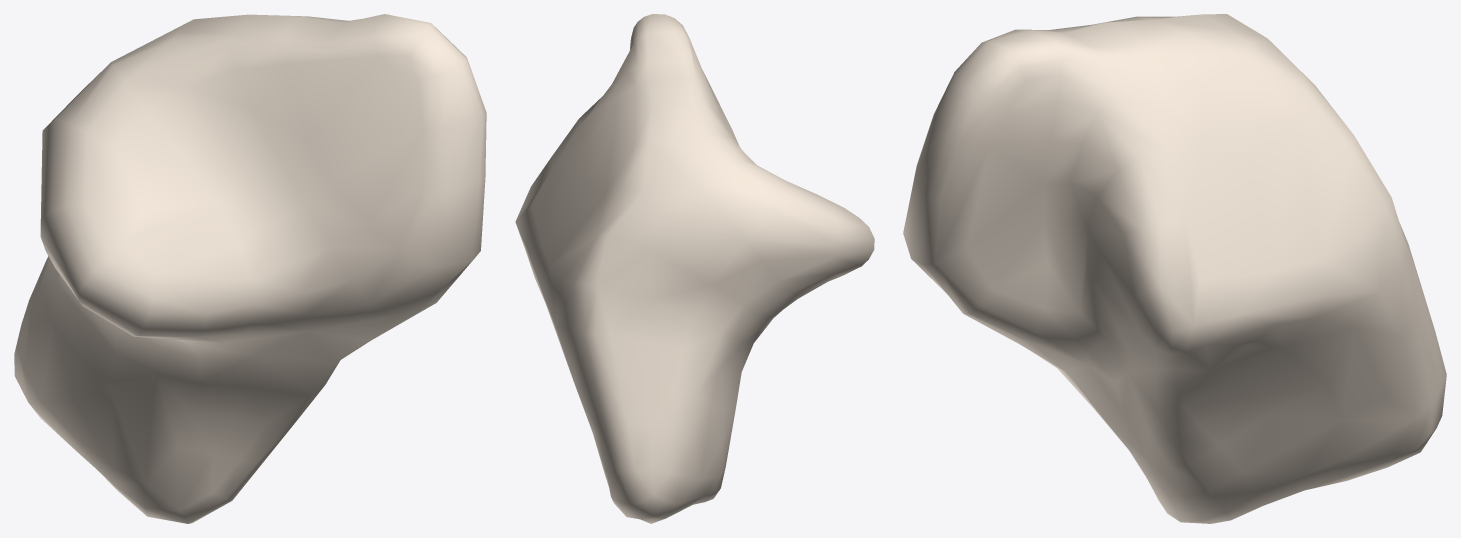
File: right_trapezium.glb
3 views of the same model, side by side, from view 1: azimuth 30°, elevation 25°; view 2: azimuth 150°, elevation 25°; view 3: azimuth 270°, elevation 25° (orthographic). The views are drawn at different scales.
Parts seen in each view (by area): view 1: Trapezium.r; view 2: Trapezium.r; view 3: Trapezium.r.
Boxes of the visible parts, <box> form: Trapezium.r: <box>14,14,486,523</box>; Trapezium.r: <box>515,14,874,523</box>; Trapezium.r: <box>903,14,1446,523</box>.
Size of the model in its own units: 0.0104 by 0.0127 by 0.0114.
